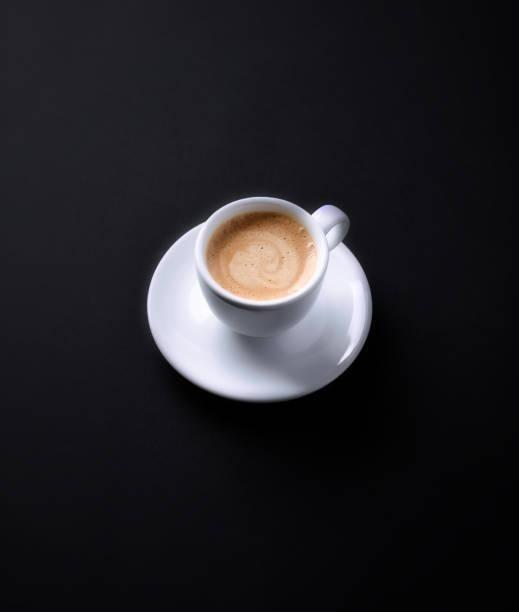cup-handle: (192, 195, 350, 339)
